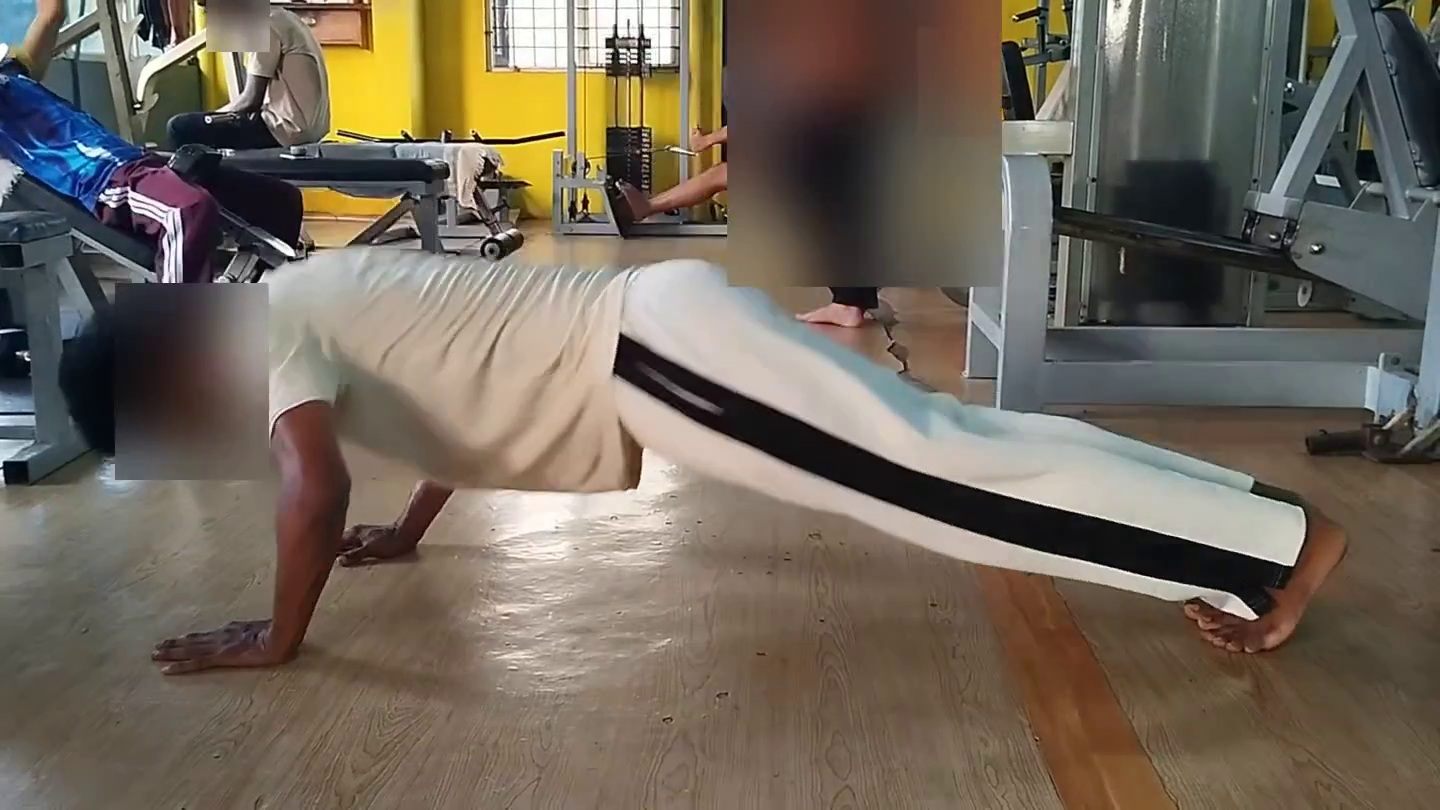push_up_incorrect: (77, 270, 1051, 741)
